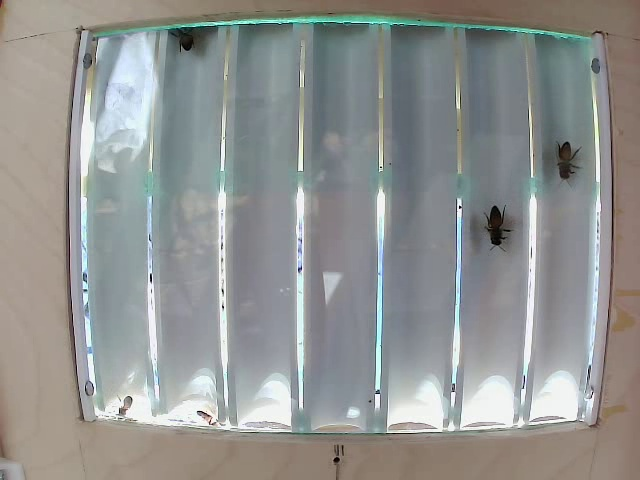bee: (483, 205, 525, 259), (169, 23, 217, 62), (550, 144, 574, 186)
